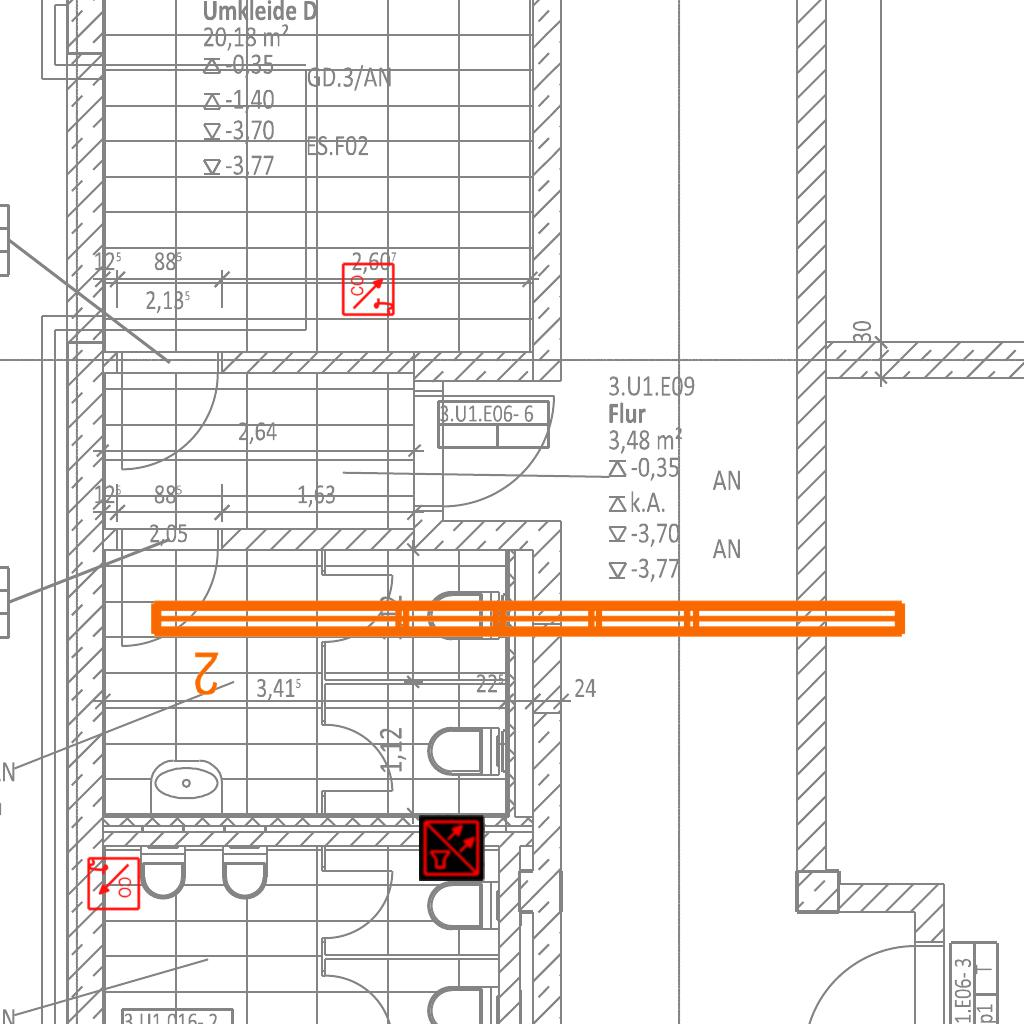Ambulanz_Pendelleuchte_LED: (142, 588, 916, 700)
OKW_Multisensormelder_(Kombination_optischer_Rauch-Kahlenmonoxid_Waerme-Melder): (419, 815, 485, 881)
ROA_Rauchmelder_optisch_mit_Signalgeber_(Sockelsirene): (341, 261, 397, 317), (85, 856, 141, 912)
